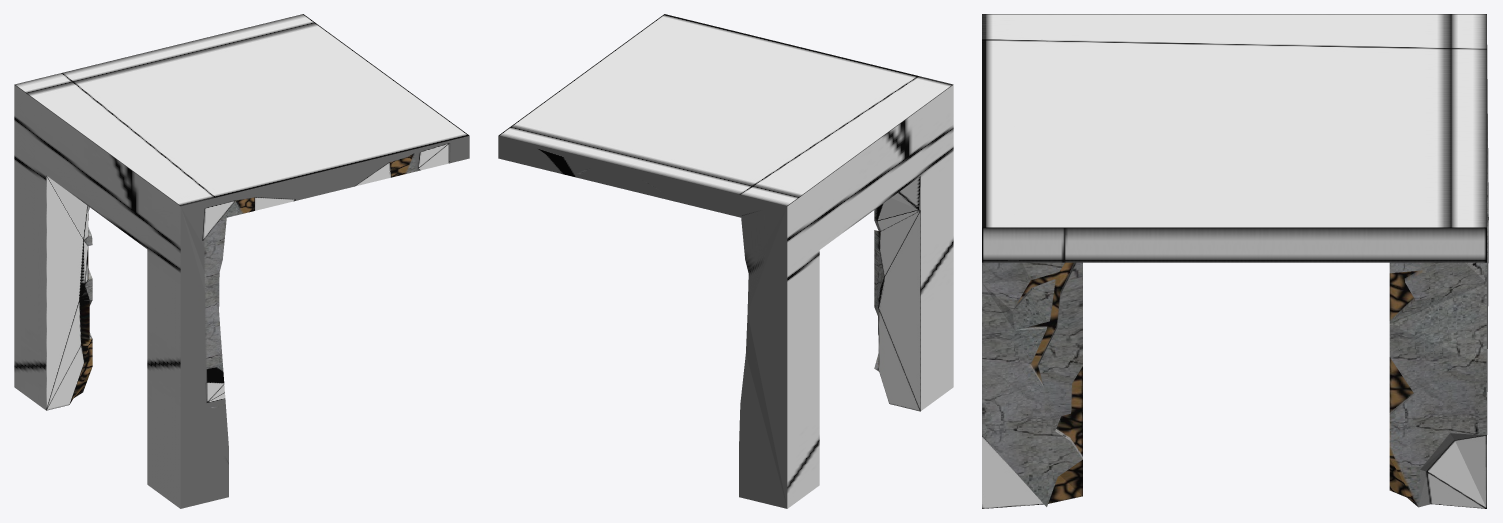
The model's file is EspacioPirateriaPuertaInteriorBajoNI.gltf.
The picture shows the model from 3 angles, left to right: view 1: azimuth 30°, elevation 25°; view 2: azimuth 150°, elevation 25°; view 3: azimuth 270°, elevation 25°; orthographic projection. The views are drawn at different scales.
Visible parts, largest first — view 1: Cubo.10; view 2: Cubo.10; view 3: Cubo.10.
Boxes of the visible parts, <box> form: Cubo.10: <box>14,14,469,508</box>; Cubo.10: <box>498,14,953,508</box>; Cubo.10: <box>982,14,1488,508</box>.
Size of the model in its own units: 2 by 2 by 2.
1 material, 1 textured.
